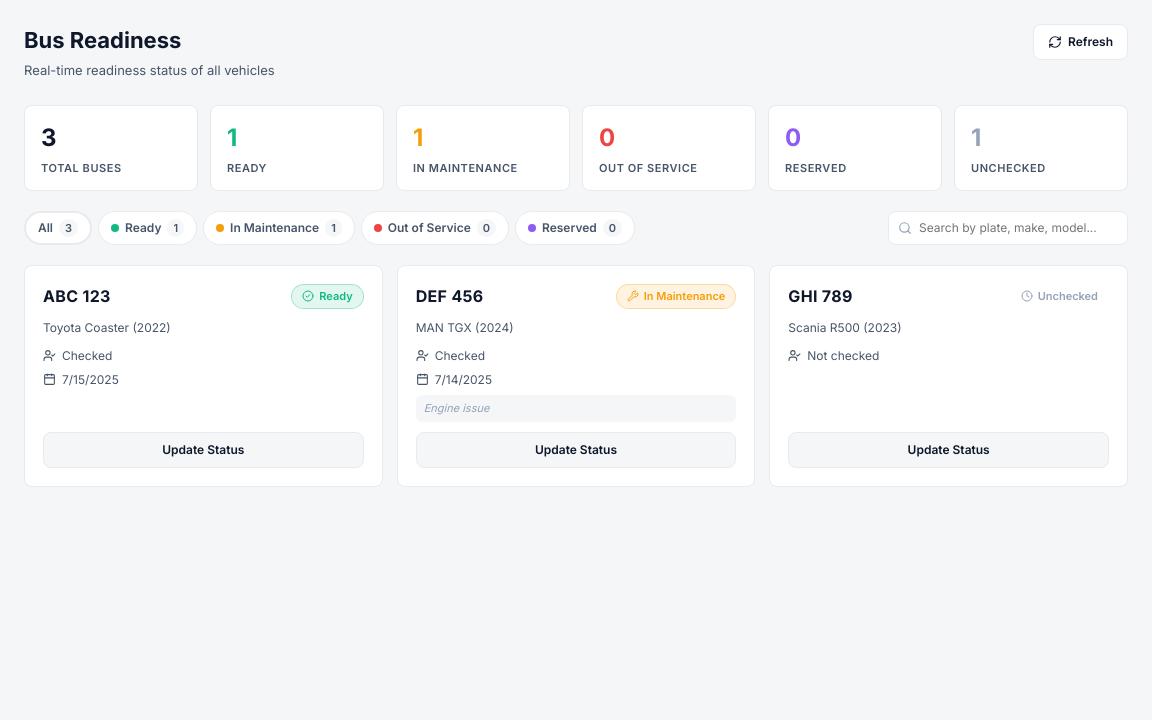
Test: ReadinessDashboard › opens the update modal on button click
expect the text "ABC 123" is shown: met, box [43,284,111,308]
Click the button "Update Status" below "7/15/2025". click: coordinates (203, 450)
box: [43,432,364,468]
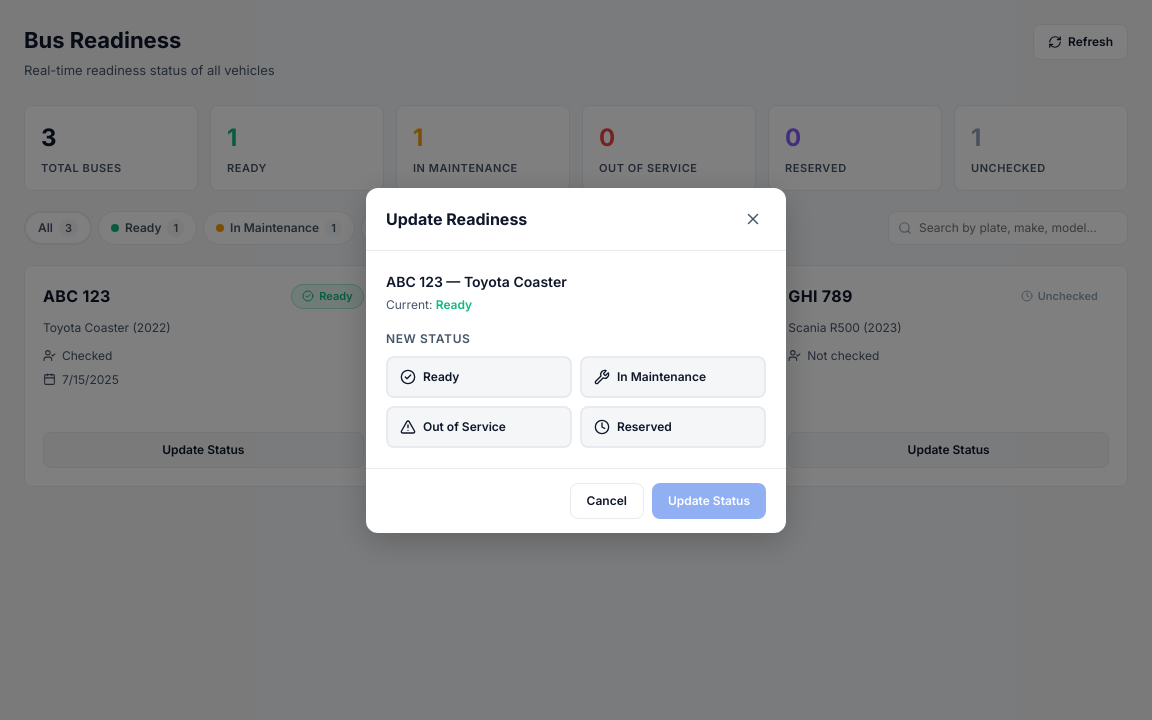
expect the text "New Status" is shown: met, box [386,330,470,346]
